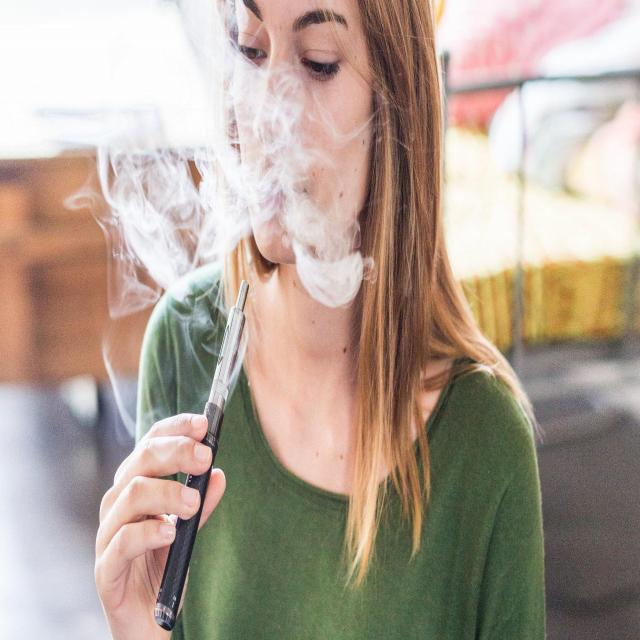Вейп: (157, 280, 251, 625)
Дым: (97, 23, 362, 302)
Тело: (96, 3, 544, 640)
